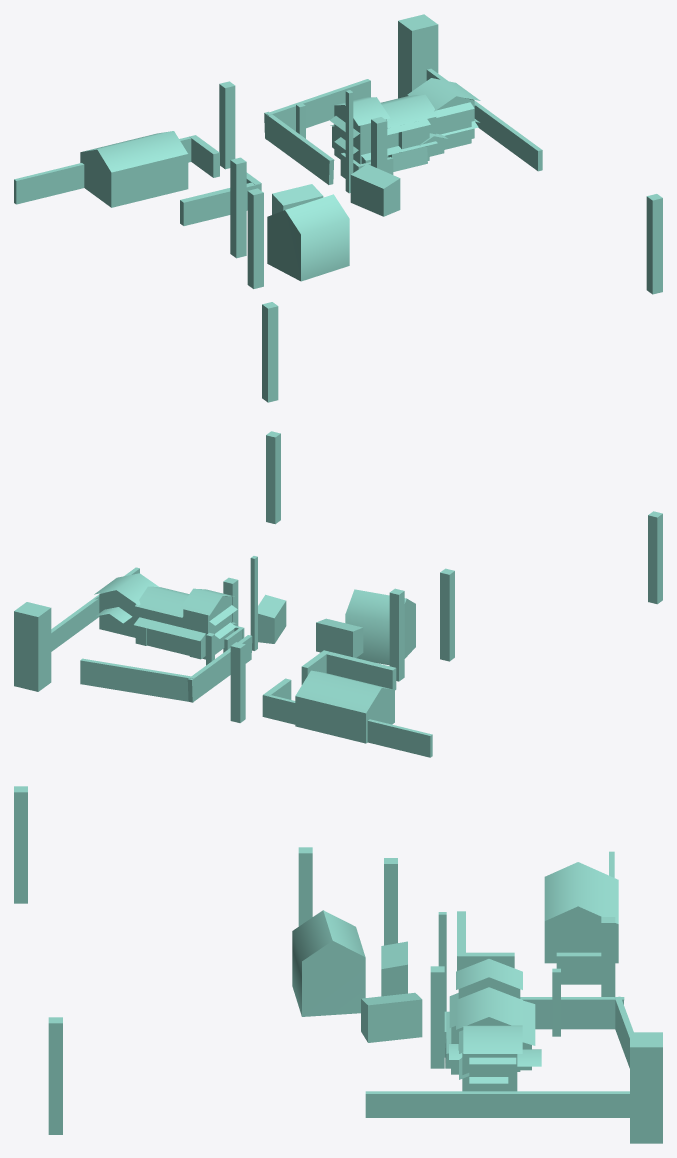
File: collision_camera.X.obj
3 views of the same model, one above another, from view 1: azimuth 30°, elevation 25°; view 2: azimuth 150°, elevation 25°; view 3: azimuth 270°, elevation 25° (orthographic). The views are drawn at different scales.
Size of the model in its own units: 6934 by 1789 by 7624.
